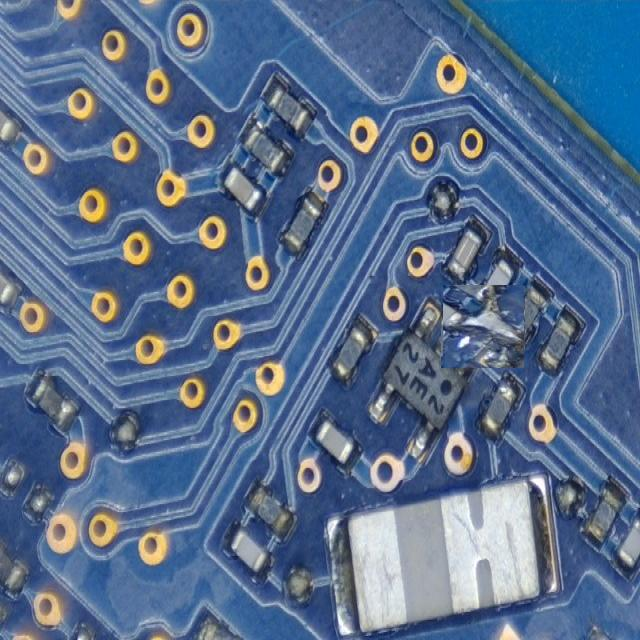Short_circuit: (443, 286, 524, 368)
